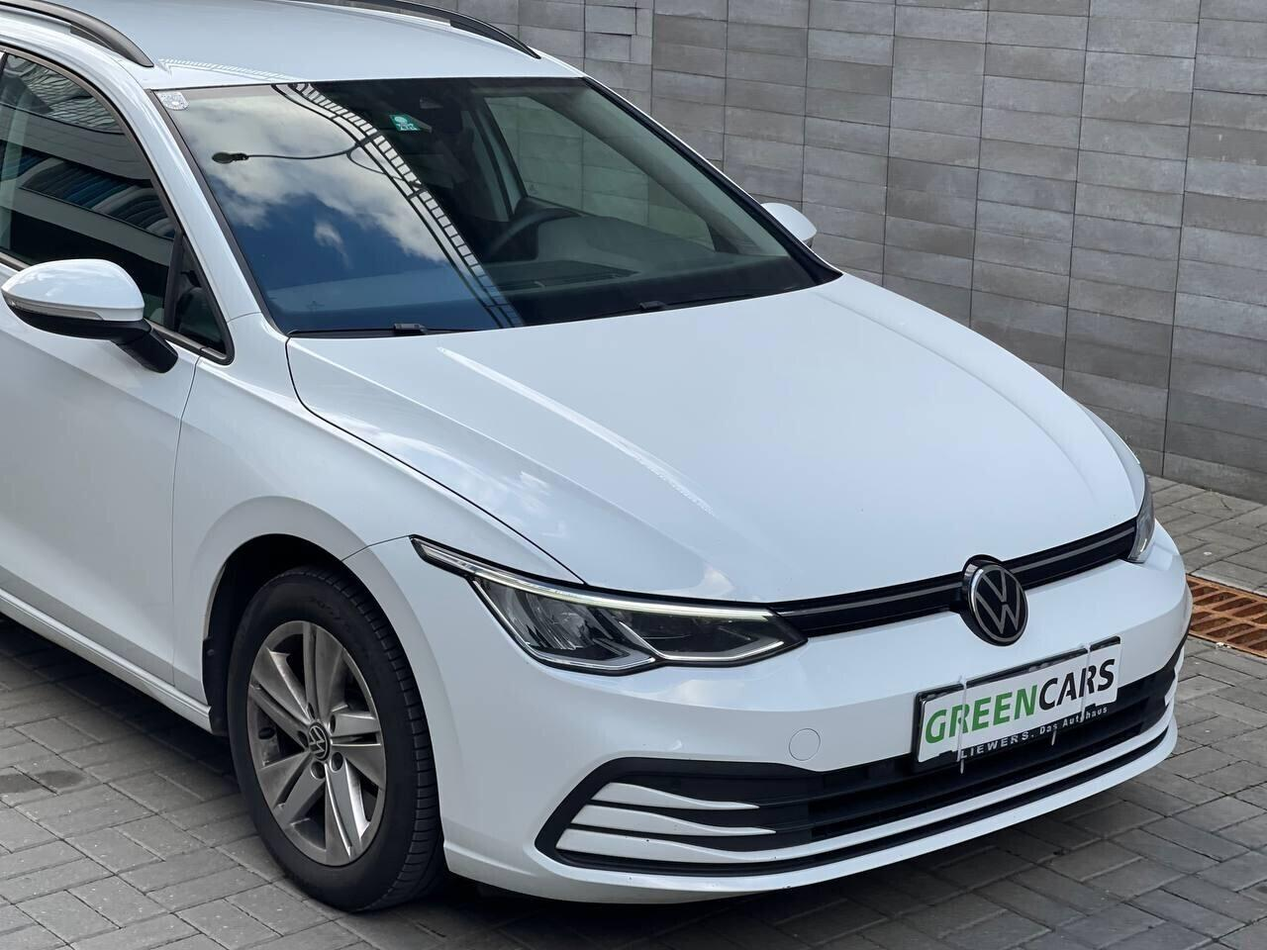Golf_2019: (0, 0, 1203, 919)
